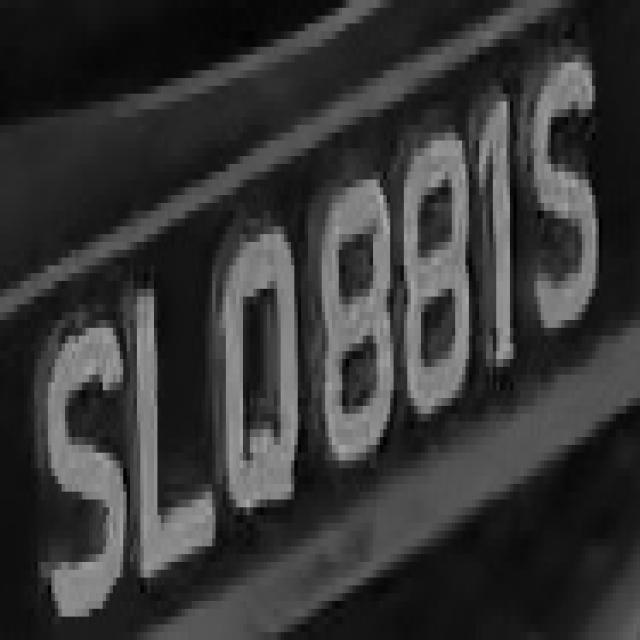1: (469, 102, 541, 398)
8: (301, 164, 404, 484), (383, 132, 469, 460)
L: (120, 242, 222, 578)
Q: (208, 195, 322, 570)
S: (520, 31, 616, 336), (0, 3, 1, 8)
